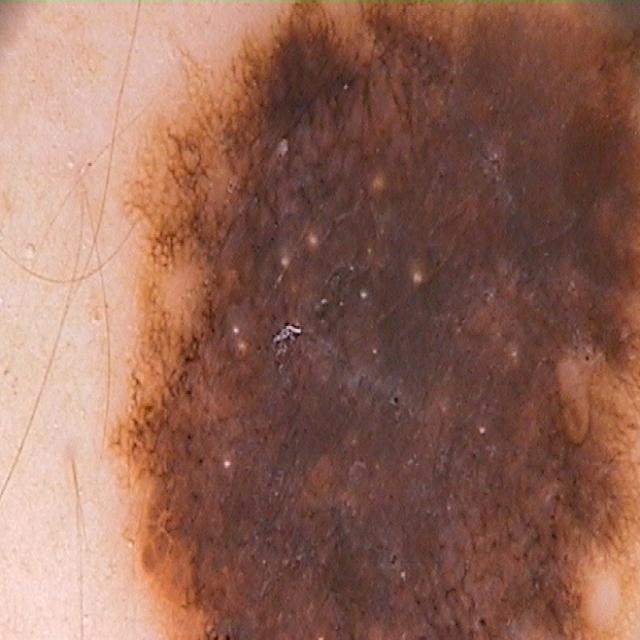Melanoma: (119, 0, 640, 640)
